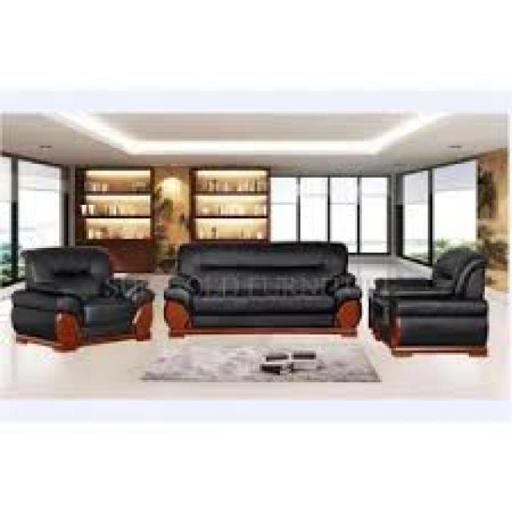sofa: (170, 215, 378, 358), (389, 218, 512, 390), (10, 238, 156, 380)
